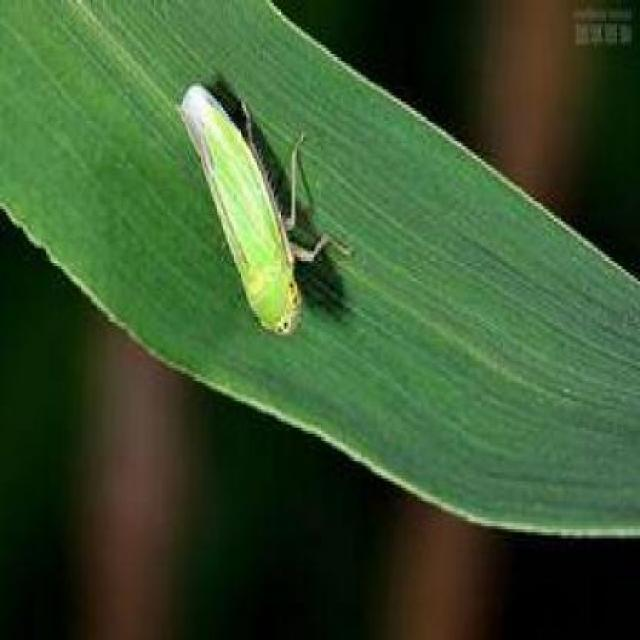green-leafhopper: (174, 80, 341, 340)
